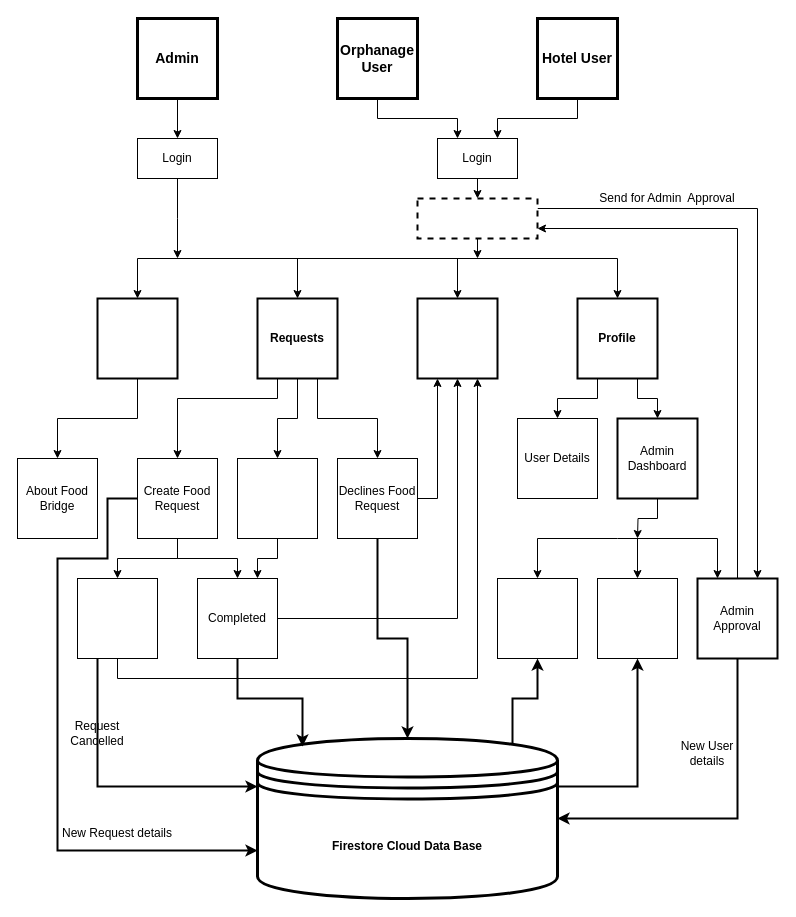
Image size: 796x917. Some labels were removed from this diagram. Each missing label, with the box of its shape:
Accepts Food Request: (236, 458, 318, 538)
Active User details: (496, 578, 578, 658)
Cancel: (76, 578, 158, 658)
Food Request details: (596, 578, 678, 658)
History: (416, 297, 498, 379)
Home: (96, 297, 178, 379)
Registration: (416, 197, 538, 239)
